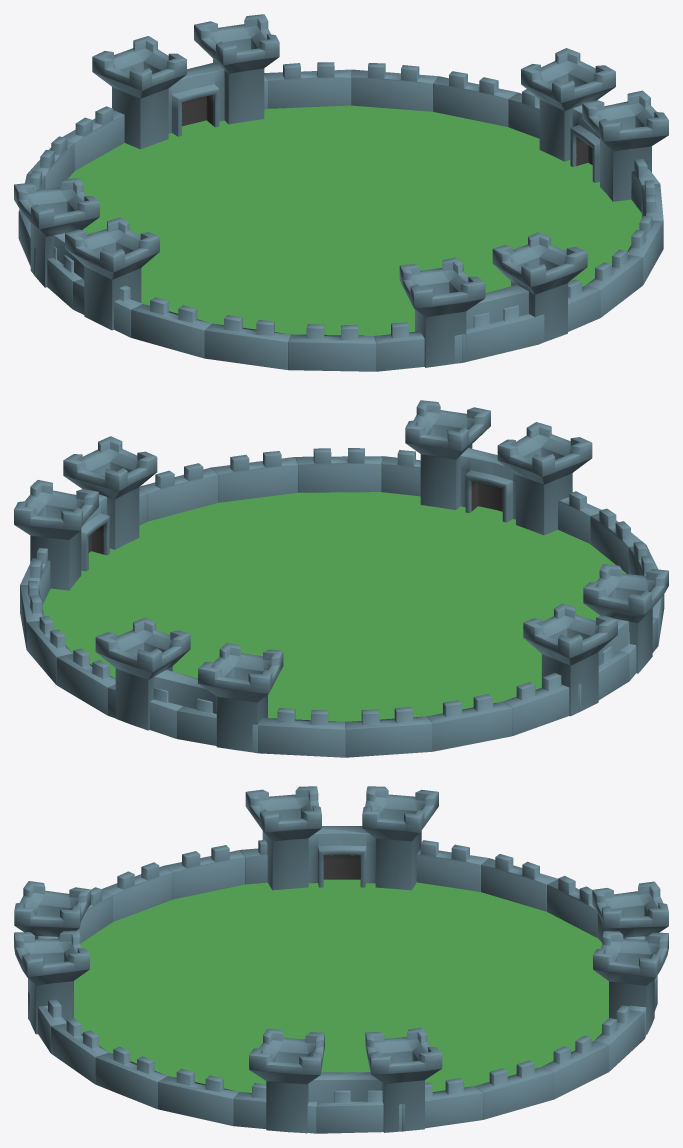
The model's file is island.002.glb.
3 renders of one model, top to bottom at view 1: azimuth 30°, elevation 25°; view 2: azimuth 150°, elevation 25°; view 3: azimuth 270°, elevation 25°, orthographic. The views are drawn at different scales.
Parts seen in each view (by area): view 1: island.002; view 2: island.002; view 3: island.002.
Boxes of the visible parts, box(x1,y1,x2,y2) form: island.002: box(14, 14, 668, 371); island.002: box(14, 400, 668, 757); island.002: box(14, 786, 668, 1133).
Size of the model in its own units: 93.25 by 12.52 by 94.13.
